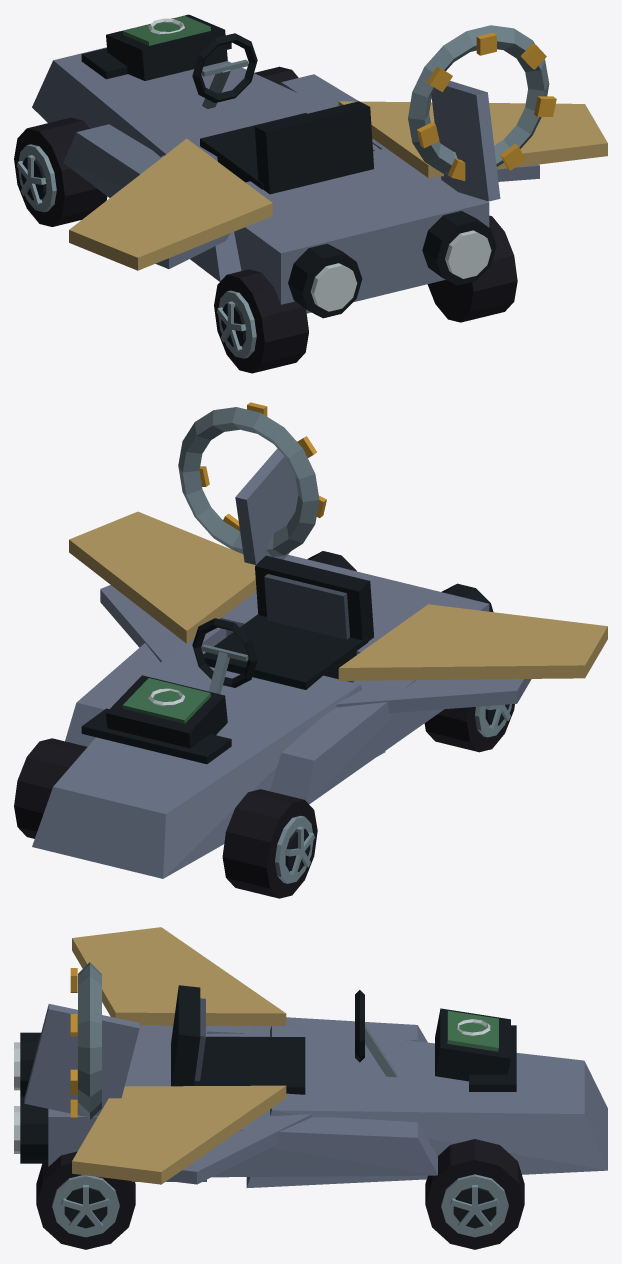
Rendered from kart.glb.
The picture shows the model from 3 angles, top to bottom: view 1: azimuth 30°, elevation 25°; view 2: azimuth 150°, elevation 25°; view 3: azimuth 270°, elevation 25°; orthographic projection. The views are drawn at different scales.
Visible parts, largest first — view 1: identity-shuttle-shuttle-flight-planform, identity-shuttle-motif-wings, identity-shuttle-driver-cockpit, identity-shuttle-motif-gate-ring, wheel-rear-left, wheel-front-left, identity-shuttle-motif-scanner, wheel-rear-right; view 2: identity-shuttle-shuttle-flight-planform, identity-shuttle-motif-wings, identity-shuttle-driver-cockpit, identity-shuttle-motif-gate-ring, wheel-front-left, identity-shuttle-motif-scanner, wheel-front-right, wheel-rear-left; view 3: identity-shuttle-shuttle-flight-planform, identity-shuttle-motif-wings, identity-shuttle-driver-cockpit, wheel-front-right, wheel-rear-right, identity-shuttle-motif-scanner, identity-shuttle-motif-gate-ring.
Part boxes in pixels (x1,y1,x2,y2): identity-shuttle-shuttle-flight-planform: (32, 43, 539, 318); identity-shuttle-motif-wings: (69, 101, 607, 270); identity-shuttle-driver-cockpit: (192, 33, 373, 194); identity-shuttle-motif-gate-ring: (408, 25, 556, 180); wheel-rear-left: (214, 269, 308, 373); wheel-front-left: (14, 117, 107, 226); identity-shuttle-motif-scanner: (106, 14, 227, 80); wheel-rear-right: (427, 215, 517, 322); identity-shuttle-shuttle-flight-planform: (32, 448, 531, 878); identity-shuttle-motif-wings: (69, 511, 607, 680); identity-shuttle-driver-cockpit: (192, 555, 373, 694); identity-shuttle-motif-gate-ring: (178, 402, 326, 556); wheel-front-left: (222, 789, 317, 898); identity-shuttle-motif-scanner: (106, 675, 227, 748); wheel-front-right: (14, 738, 87, 838); wheel-rear-left: (424, 704, 514, 752); identity-shuttle-shuttle-flight-planform: (14, 1004, 607, 1187); identity-shuttle-motif-wings: (72, 927, 286, 1184); identity-shuttle-driver-cockpit: (171, 985, 397, 1094); wheel-front-right: (425, 1139, 524, 1249); wheel-rear-right: (36, 1151, 135, 1249); identity-shuttle-motif-scanner: (435, 1008, 510, 1081); identity-shuttle-motif-gate-ring: (70, 962, 101, 1119).
Bounding box in the file's own units: 2.92 × 1.52 × 2.99.
